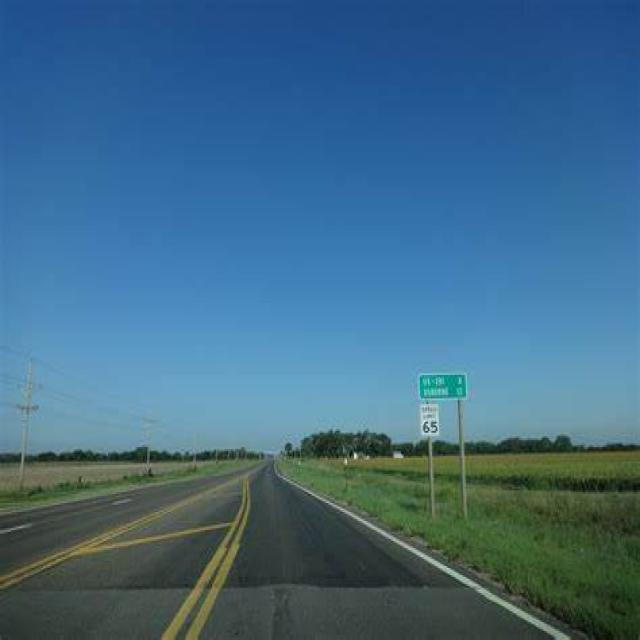speedLimit65: (418, 404, 439, 442)
